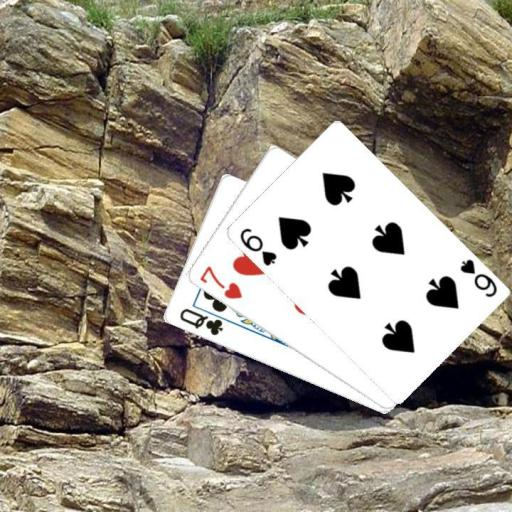6S: (457, 256, 499, 300), (236, 225, 278, 267)
7H: (195, 262, 244, 301)
QC: (176, 305, 225, 337)
